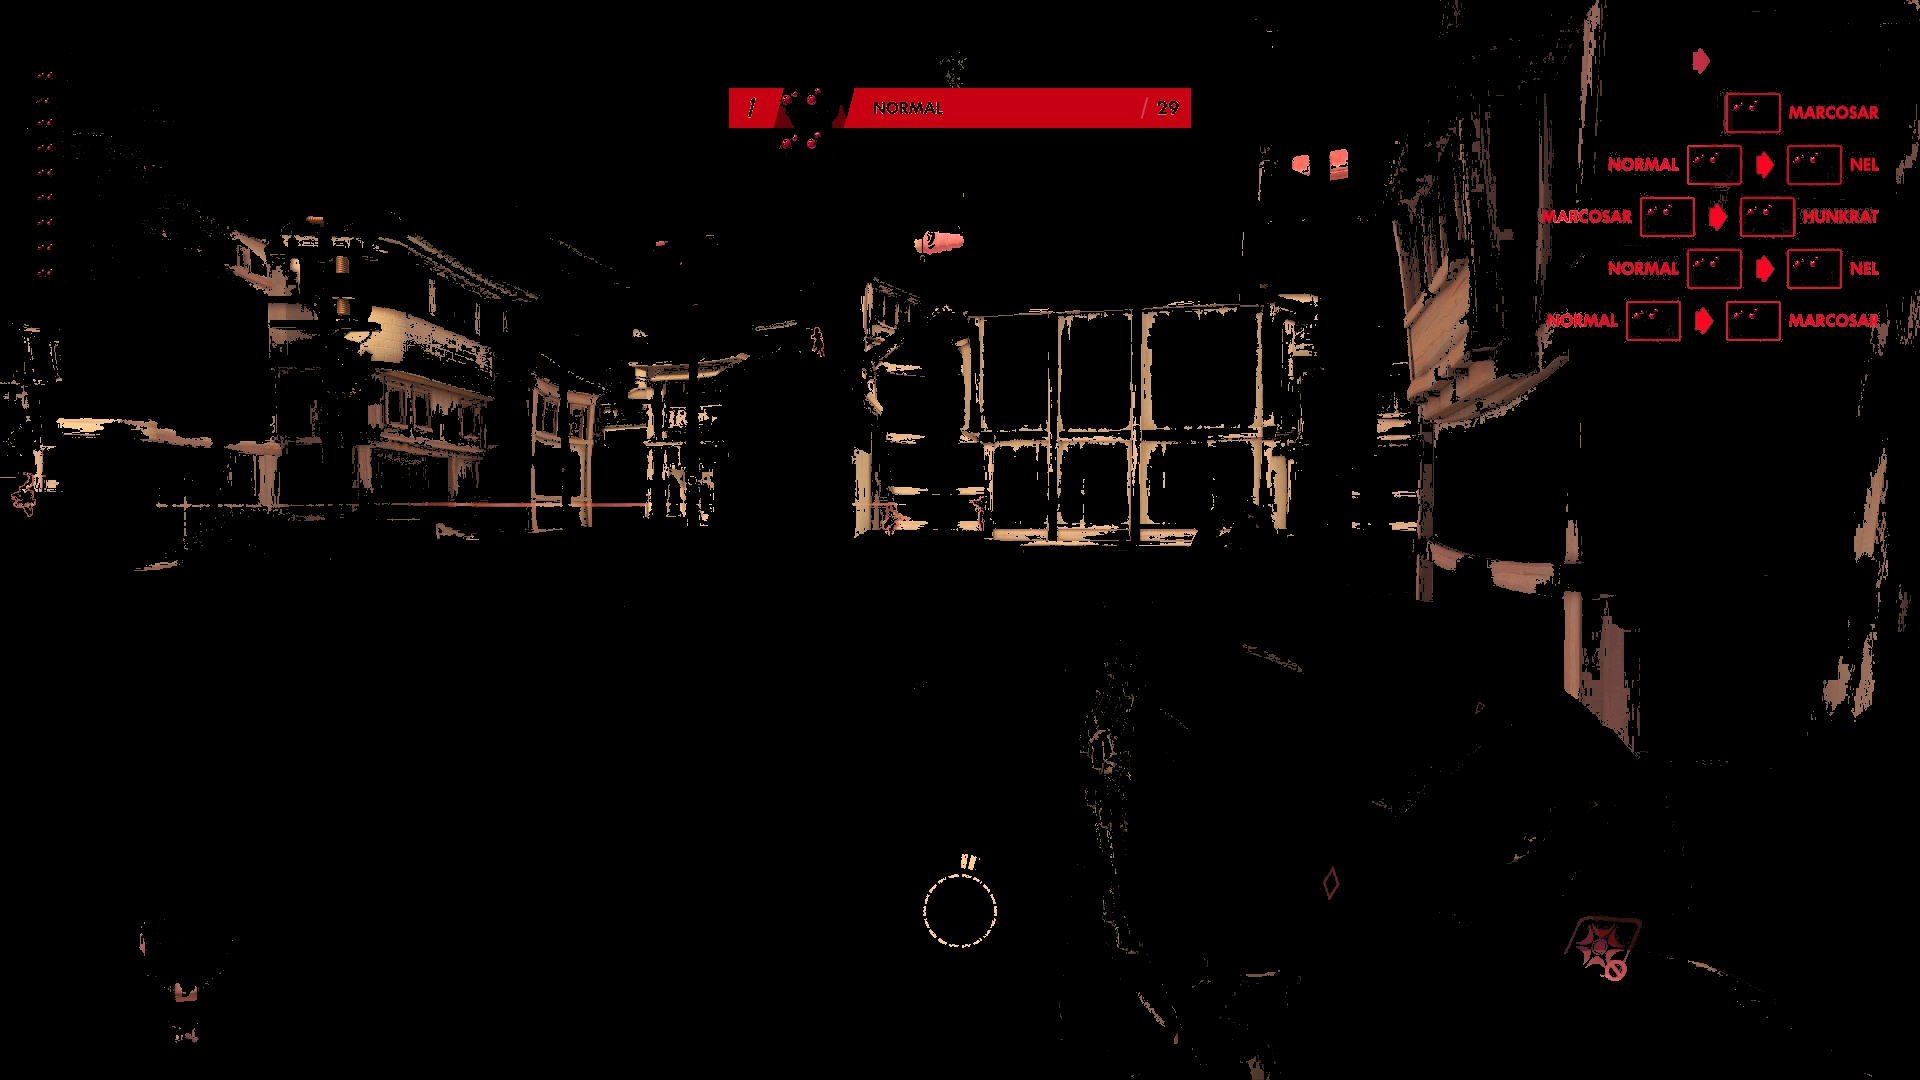widowmaker: (878, 502, 913, 541), (968, 493, 992, 533)
